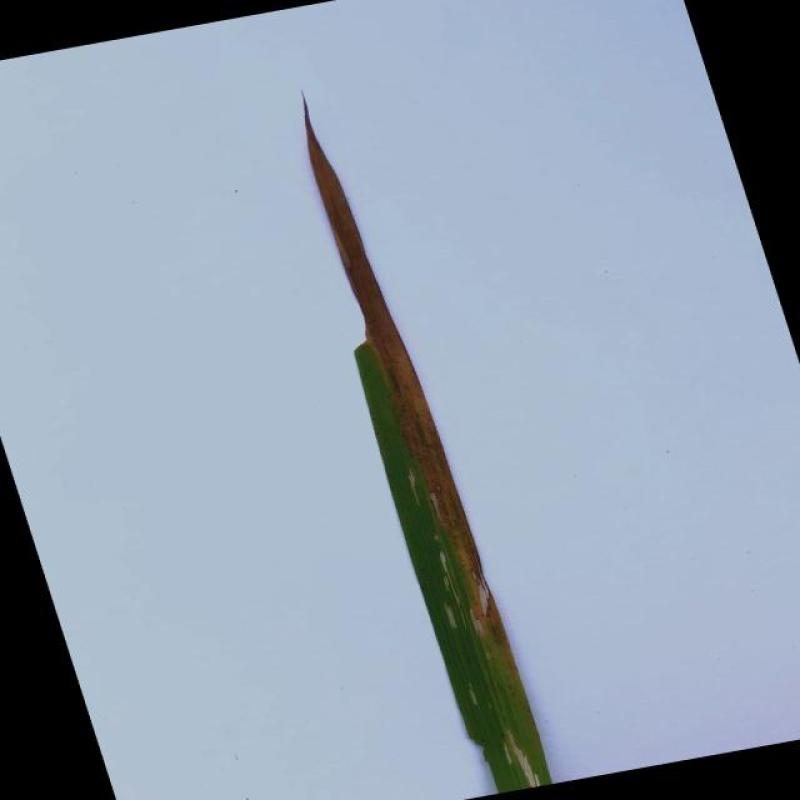Rice Tungro: (303, 95, 552, 786)
